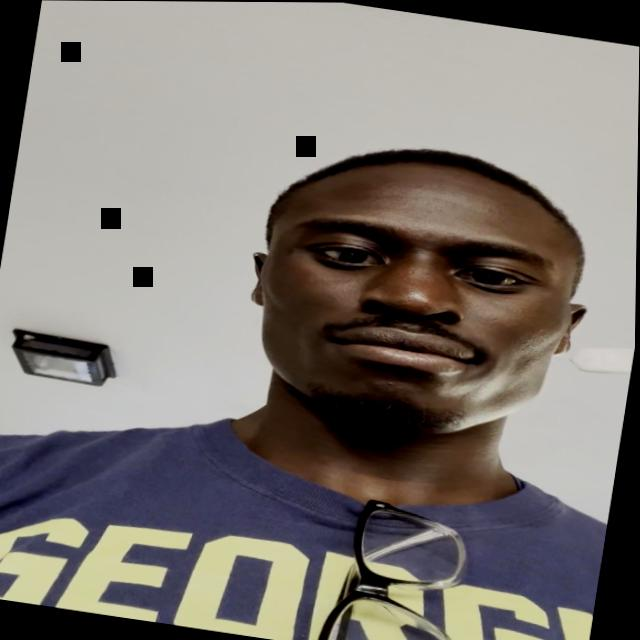NO-Mask: (222, 132, 605, 474)
